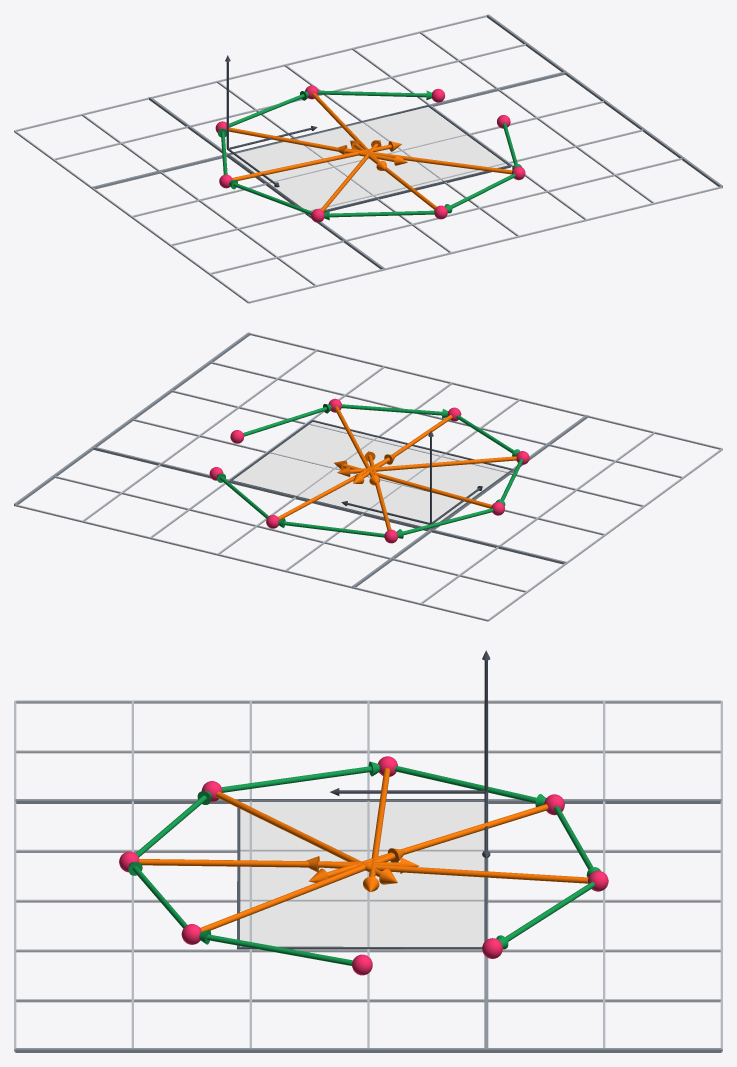
The picture shows the model from 3 angles, top to bottom: view 1: azimuth 30°, elevation 25°; view 2: azimuth 150°, elevation 25°; view 3: azimuth 270°, elevation 25°; orthographic projection. The views are drawn at different scales.
Bounding box in the file's own units: 0.7026 × 0.1436 × 0.602.
